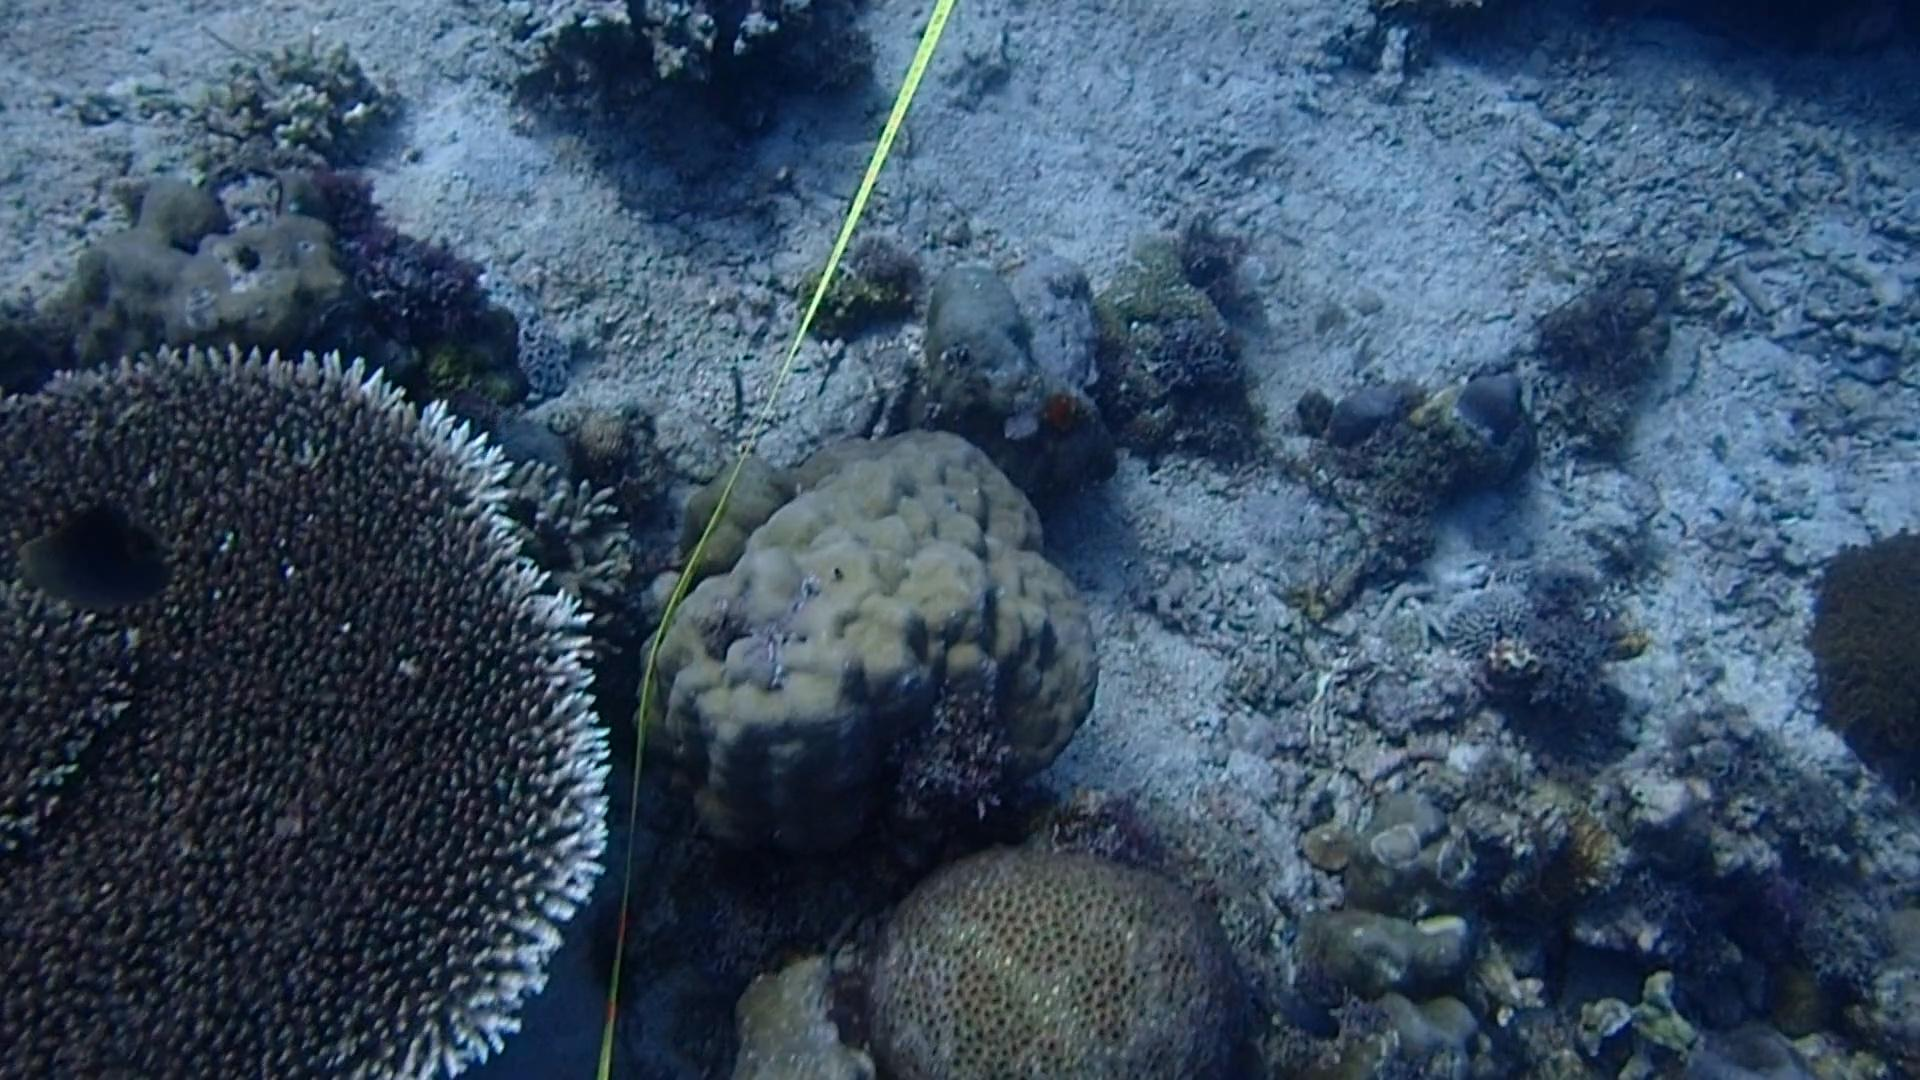Dark Blue Dory: (12, 492, 165, 613)
Light Fish: (1259, 980, 1346, 1048)
